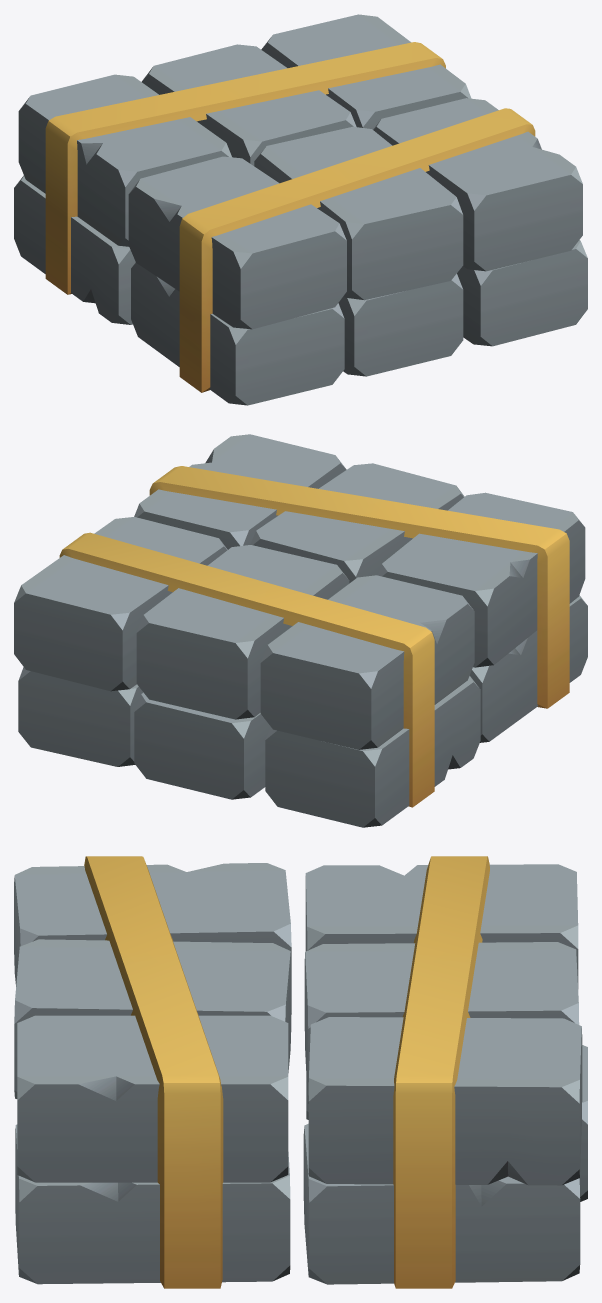
Rendered from stone_bricks_stack_medium.glb.
3 renders of one model, top to bottom at view 1: azimuth 30°, elevation 25°; view 2: azimuth 150°, elevation 25°; view 3: azimuth 270°, elevation 25°, orthographic. The views are drawn at different scales.
Parts seen in each view (by area): view 1: Stone_Bricks_Stack_Medium; view 2: Stone_Bricks_Stack_Medium; view 3: Stone_Bricks_Stack_Medium.
Boxes of the visible parts, left/top/right/bottom form: Stone_Bricks_Stack_Medium: left=14, top=14, right=587, bottom=405; Stone_Bricks_Stack_Medium: left=14, top=434, right=587, bottom=827; Stone_Bricks_Stack_Medium: left=14, top=856, right=587, bottom=1288.
Bounding box in the file's own units: 1.51 × 0.6332 × 1.59.
Materials: 1 (1 with a texture image).
